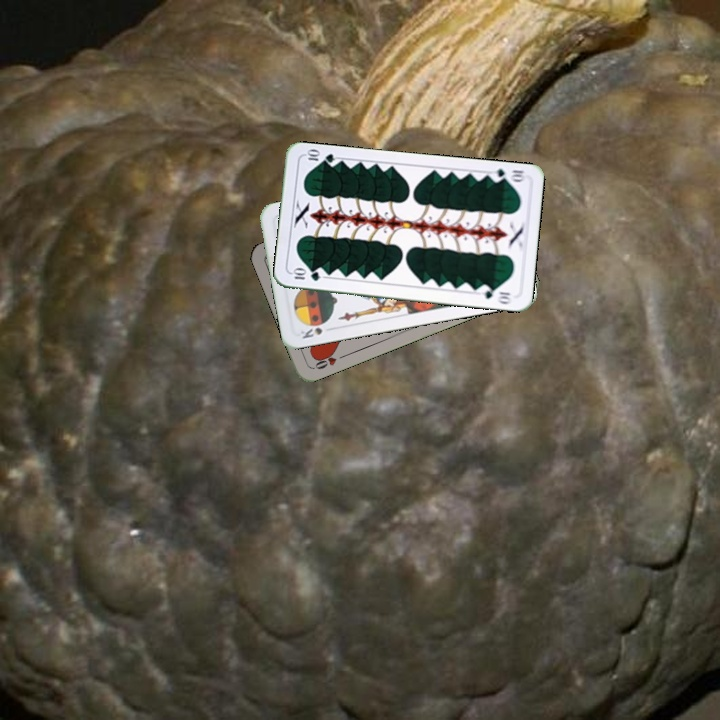G10: (487, 165, 526, 185), (288, 266, 322, 283)
HO: (310, 347, 349, 372)
SK: (296, 323, 325, 341)
